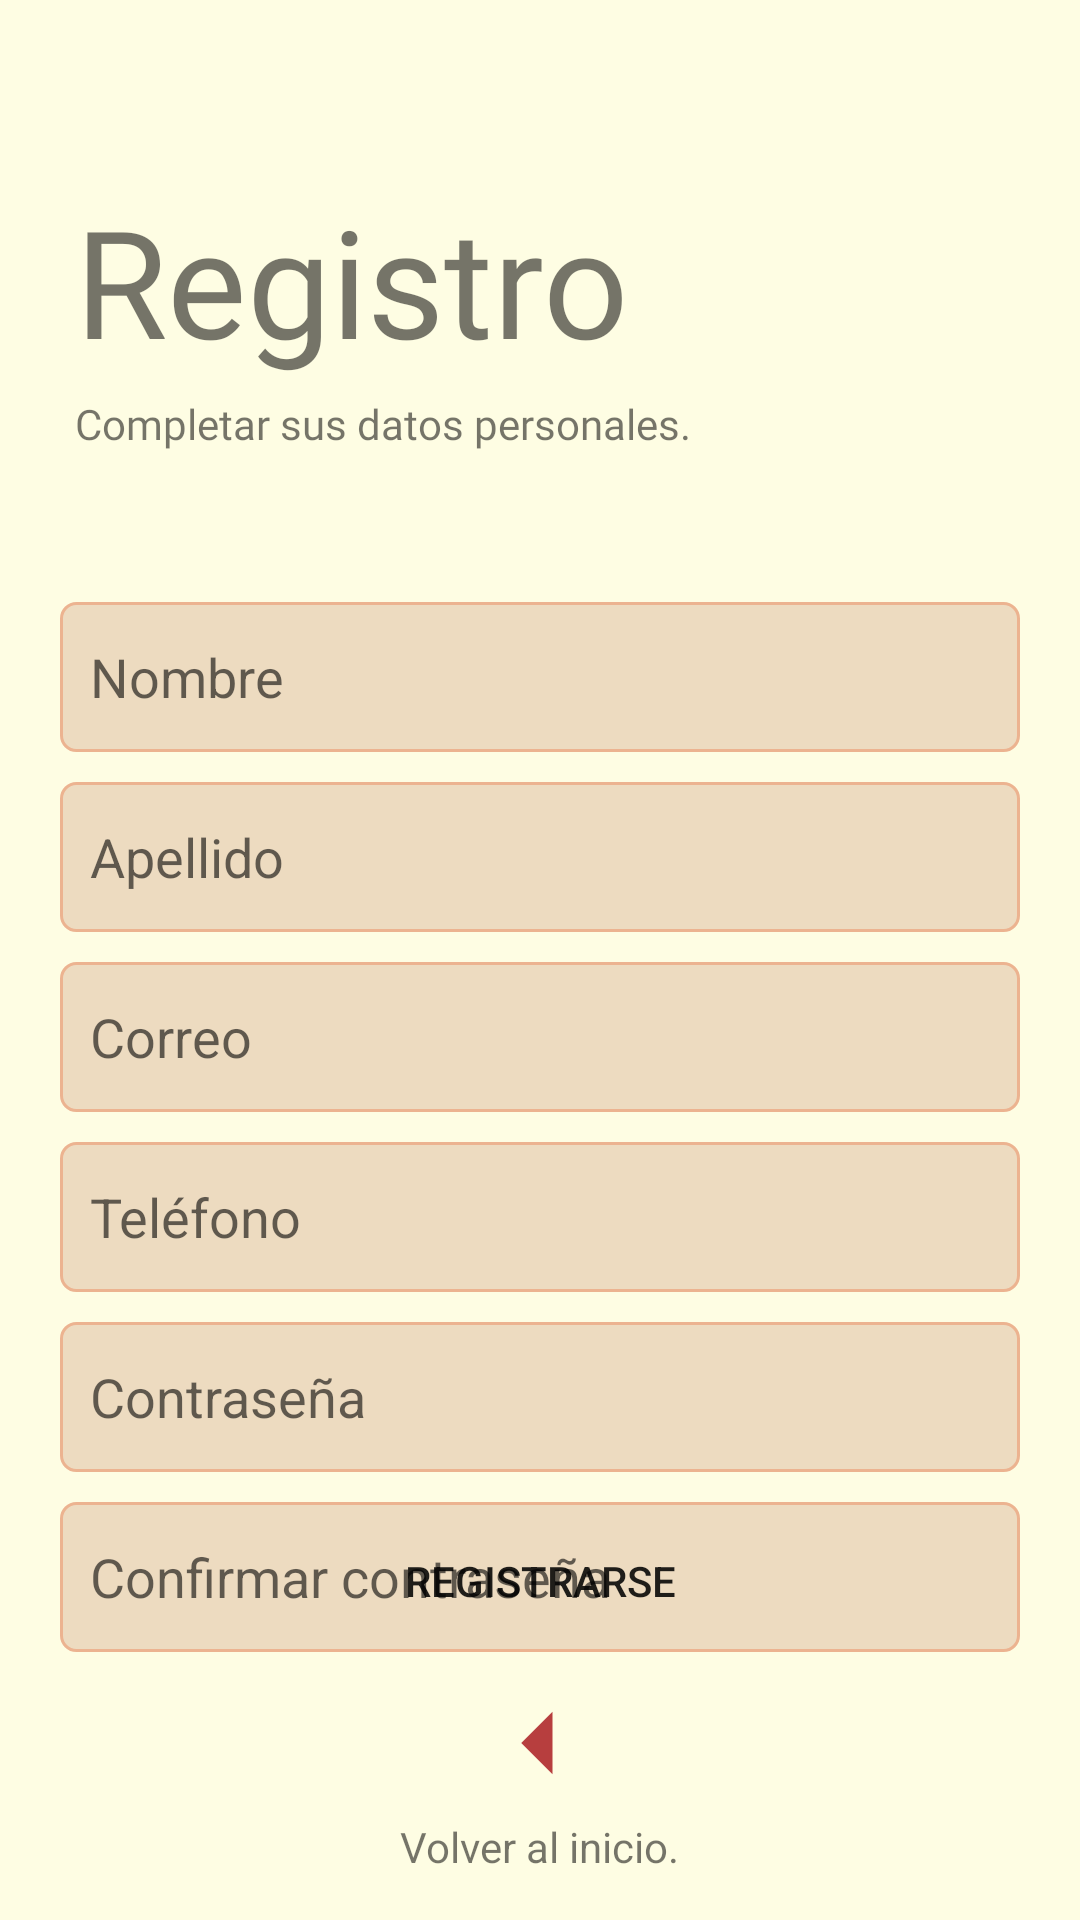

Screen size 1080 x 1920. Icon name, then its box in pixels as (x1, y1, x2, y2):
arrow left: (521, 1712, 553, 1774)
